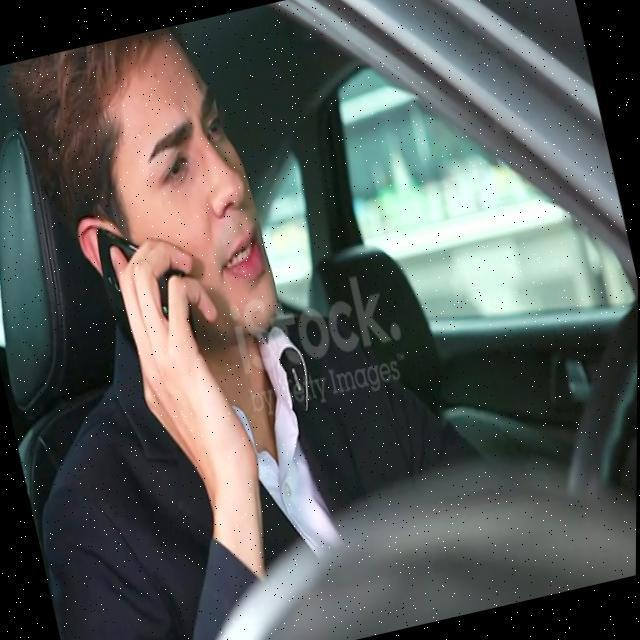PhoneCall: (91, 214, 200, 346)
